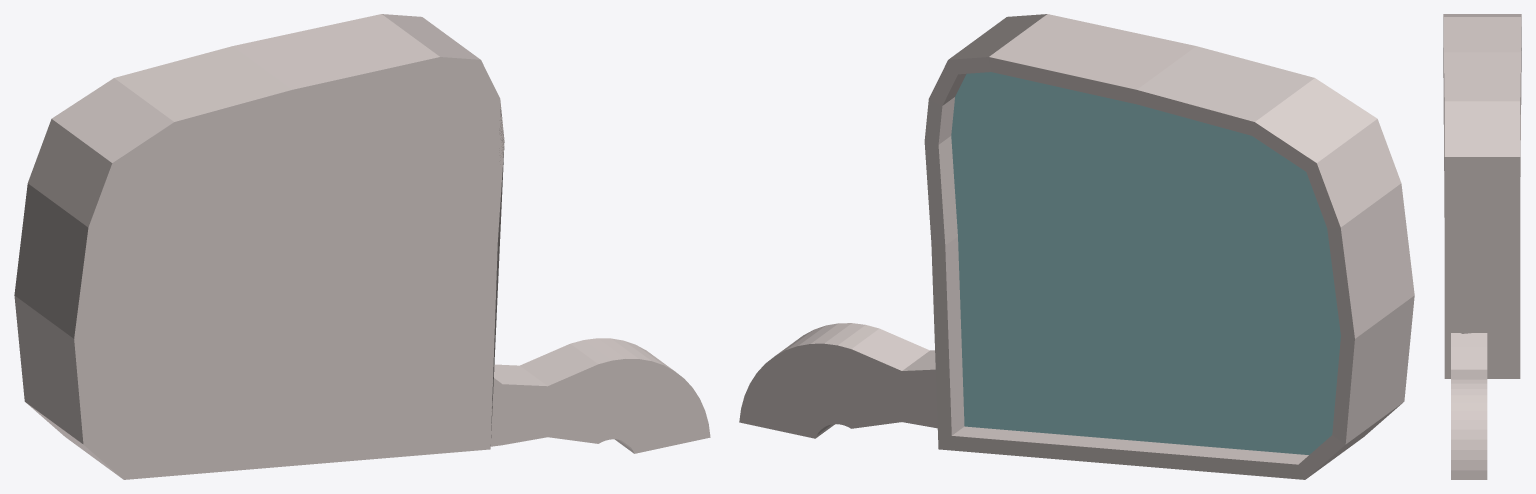
Rendered from SideMirror2.fbx.
The picture shows the model from 3 angles, left to right: view 1: azimuth 30°, elevation 25°; view 2: azimuth 150°, elevation 25°; view 3: azimuth 270°, elevation 25°; orthographic projection. The views are drawn at different scales.
Parts seen in each view (by area): view 1: SideMirror; view 2: SideMirror; view 3: SideMirror.
Part boxes in pixels (<box>): SideMirror: <box>14,14,710,479</box>; SideMirror: <box>739,14,1414,479</box>; SideMirror: <box>1443,14,1521,479</box>.
Size of the model in its own units: 132 by 89.23 by 21.61.
